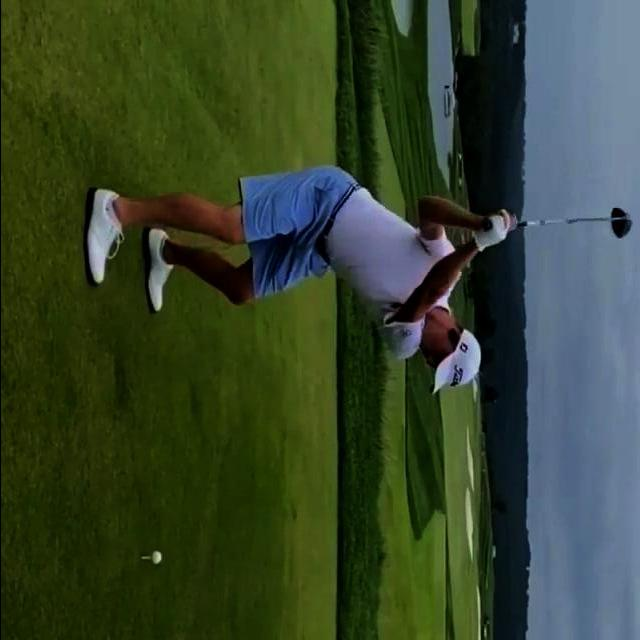ClubHandle: (480, 201, 630, 242)
ClubHead: (607, 209, 628, 244)
GolfBall: (148, 551, 164, 567)
